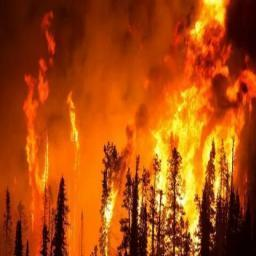Large fire: (4, 7, 251, 252)
